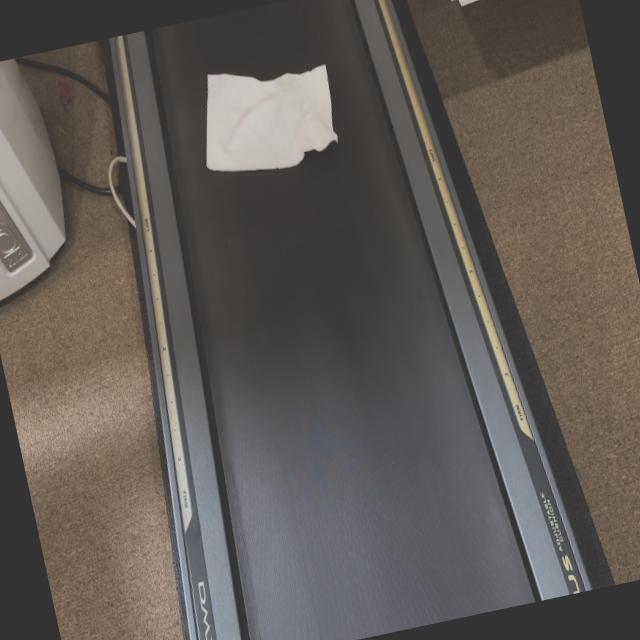Recycle: (186, 45, 350, 196)
